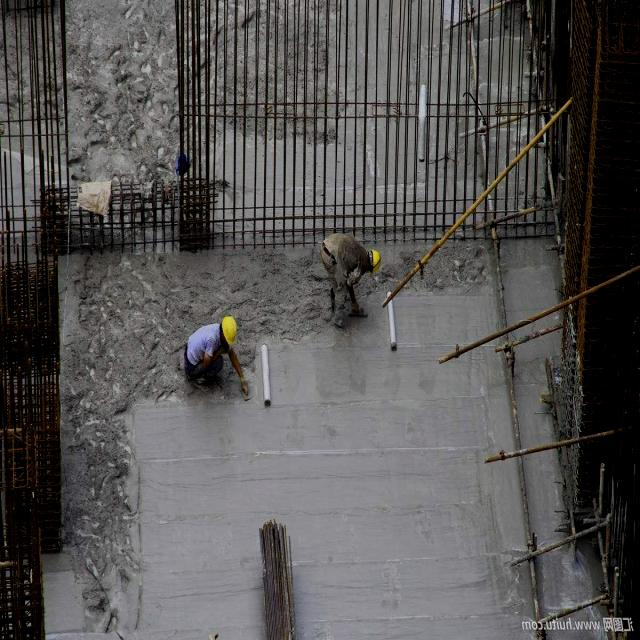hand_glove: (235, 376, 252, 400)
head_helmet: (220, 316, 238, 342), (370, 246, 381, 268)
person: (185, 299, 251, 400), (312, 234, 380, 322)
